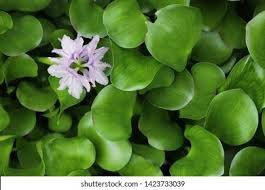water_hyacinth: (0, 0, 265, 175)
